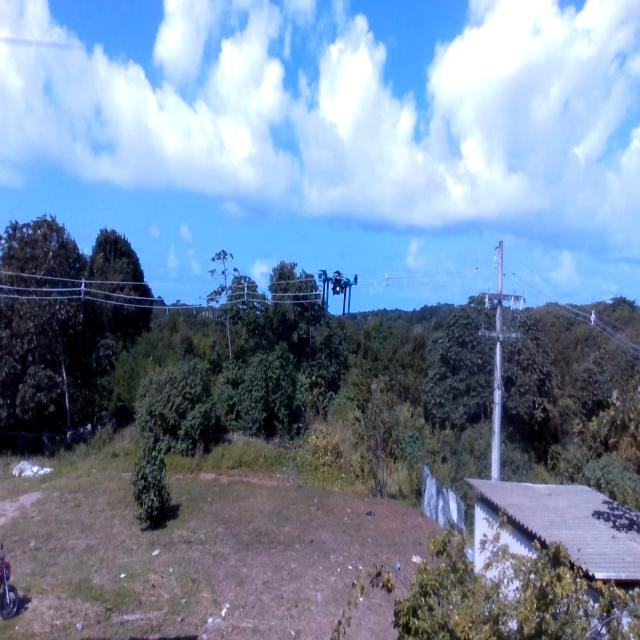-uav-: (306, 252, 370, 333)
